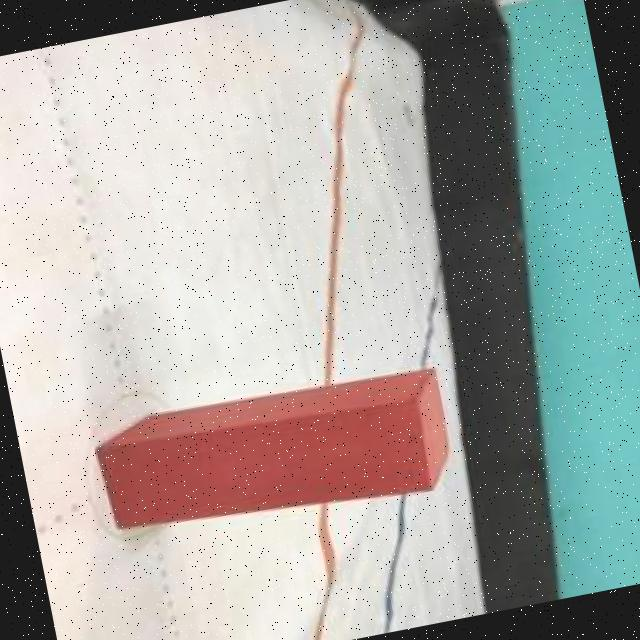redbox: (97, 357, 462, 552)
